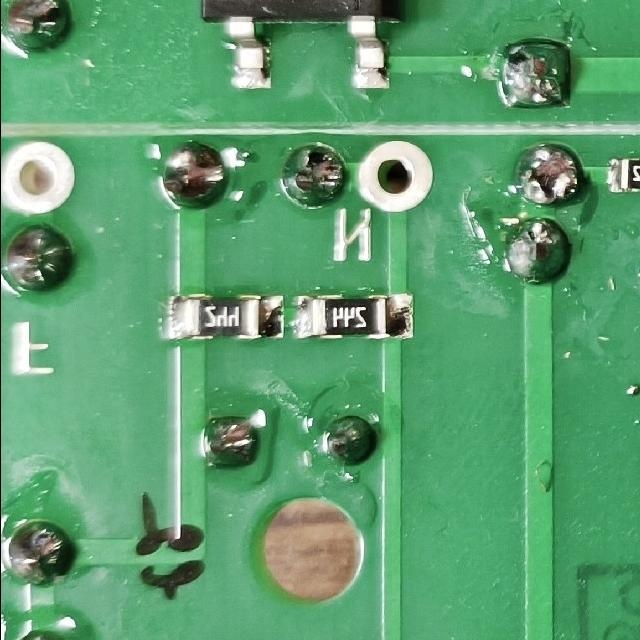chip-resistor: (292, 290, 416, 341), (163, 291, 285, 341)
